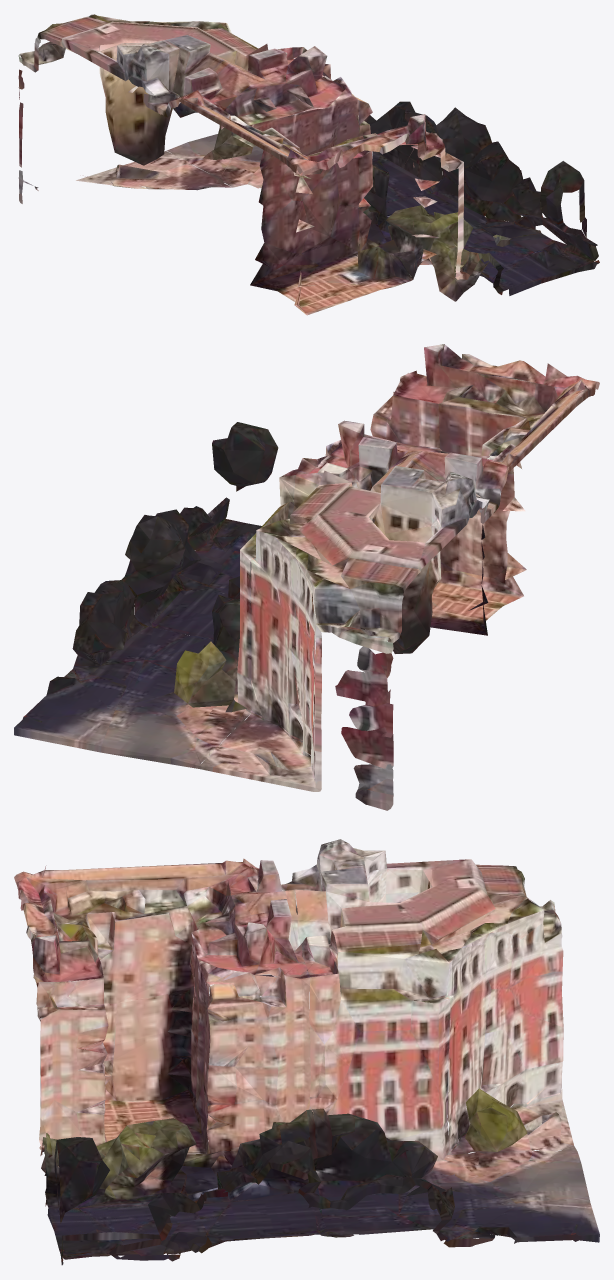
3 renders of one model, top to bottom at view 1: azimuth 30°, elevation 25°; view 2: azimuth 150°, elevation 25°; view 3: azimuth 270°, elevation 25°, orthographic. The views are drawn at different scales.
Visible parts, largest first — view 1: Mesh_0; view 2: Mesh_0; view 3: Mesh_0.
Part boxes in pixels (x1=…): Mesh_0: x1=18, y1=14, x2=599, y2=315; Mesh_0: x1=14, y1=344, x2=599, y2=810; Mesh_0: x1=14, y1=839, x2=599, y2=1265.
Size of the model in its own units: 68.43 by 39.18 by 82.48.
Materials: 1 (1 with a texture image).
